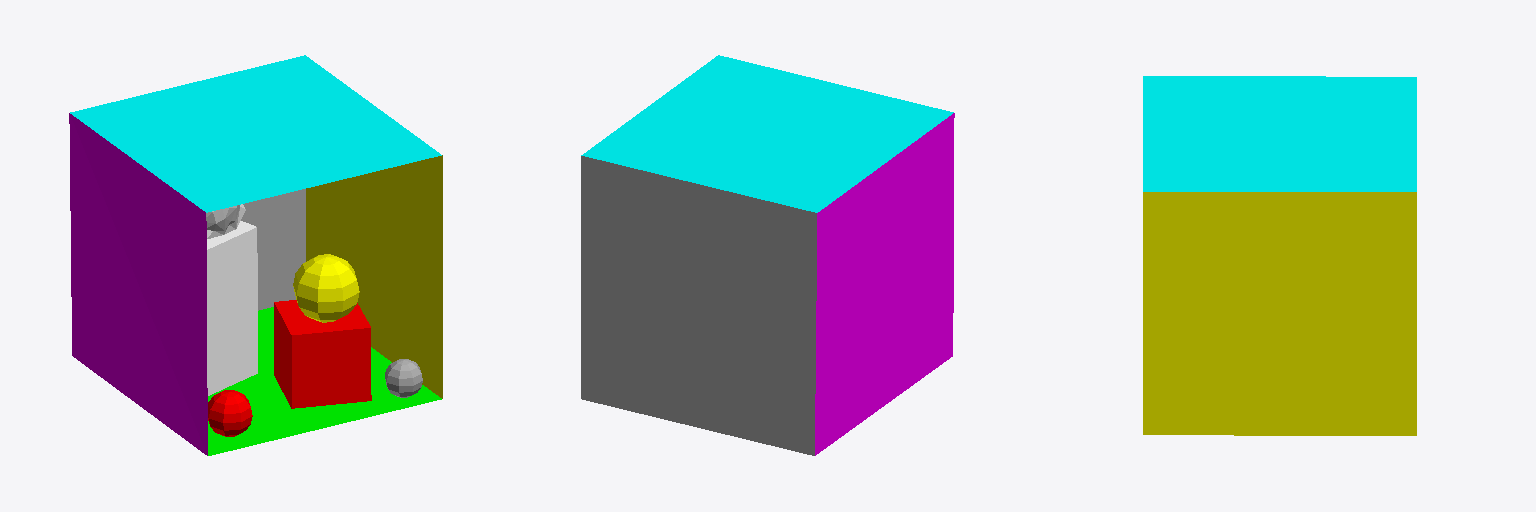
The model's file is cornell-box3.obj.
The picture shows the model from 3 angles: view 1: azimuth 30°, elevation 25°; view 2: azimuth 150°, elevation 25°; view 3: azimuth 270°, elevation 25°; orthographic projection.
Visible parts, largest first — view 1: left_wall, ceiling, right_wall, short_box, floor, tall_box, back_wall, sphere, sphere2, sphere3, bunny; view 2: back_wall, left_wall, ceiling; view 3: right_wall, ceiling.
Boxes of the visible parts, x1,y1,x2,y2 form: left_wall: [69, 113, 207, 455]; ceiling: [70, 55, 441, 212]; right_wall: [306, 155, 442, 398]; short_box: [274, 300, 371, 408]; floor: [208, 307, 441, 455]; tall_box: [207, 221, 257, 395]; back_wall: [241, 189, 305, 310]; sphere: [293, 254, 359, 322]; sphere2: [208, 390, 252, 436]; sphere3: [385, 359, 422, 397]; bunny: [206, 204, 245, 238]; back_wall: [581, 156, 816, 455]; left_wall: [815, 113, 954, 455]; ceiling: [581, 55, 953, 212]; right_wall: [1143, 192, 1416, 435]; ceiling: [1143, 76, 1416, 191].
Bounding box in the file's own units: 5.56 × 5.49 × 5.6.